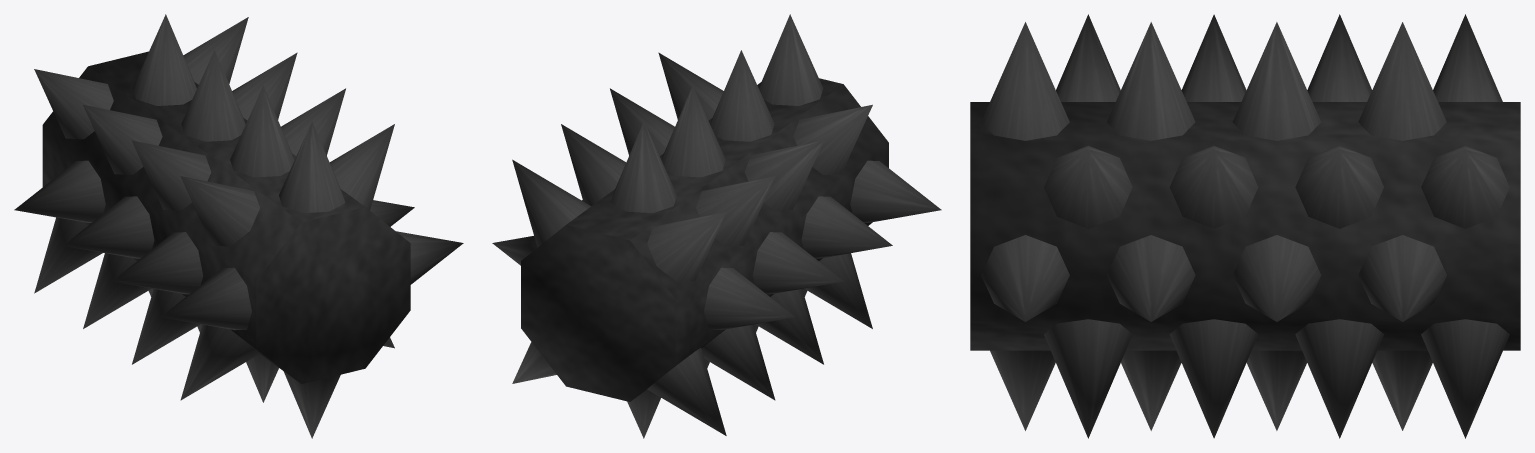
The model's file is ThornPipe.fbx.
3 views of the same model, side by side, from view 1: azimuth 30°, elevation 25°; view 2: azimuth 150°, elevation 25°; view 3: azimuth 270°, elevation 25° (orthographic). The views are drawn at different scales.
Visible parts, largest first — view 1: ThornPipe; view 2: ThornPipe; view 3: ThornPipe.
Boxes of the visible parts, x1=… form: ThornPipe: x1=14, y1=14, x2=463, y2=438; ThornPipe: x1=492, y1=14, x2=941, y2=438; ThornPipe: x1=970, y1=14, x2=1520, y2=438.
Bounding box in the file's own units: 1.8 × 1.8 × 2.19.
